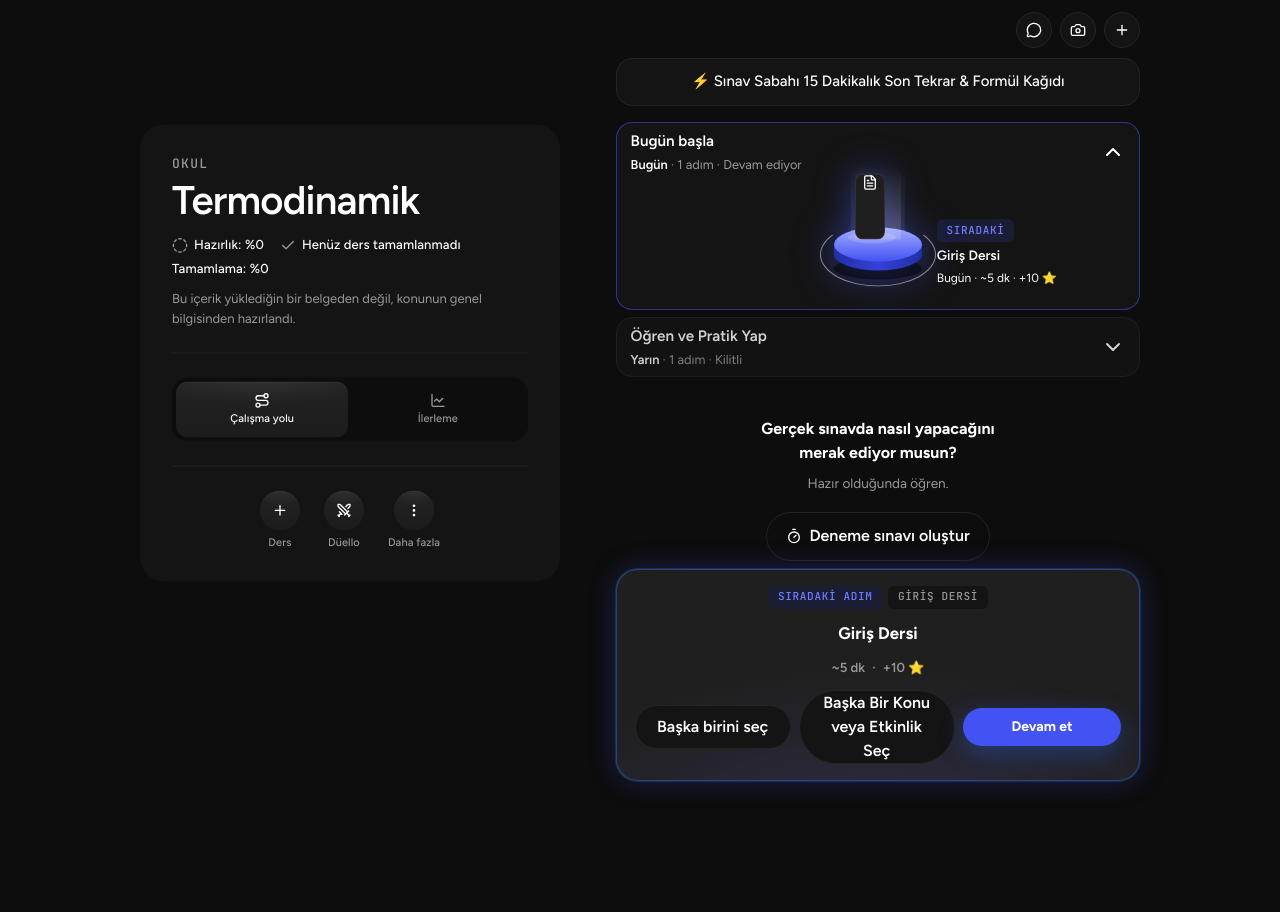
Test: exam prep home path (Astra düzeni, 29 Eylül 2026) › shows a lock icon (not a step number) on a locked trail node
Click the button "Öğren ve Pratik Yap Yarın · 1 adım · Kilitli".
click(699, 336)  # box [617, 318, 1139, 376]
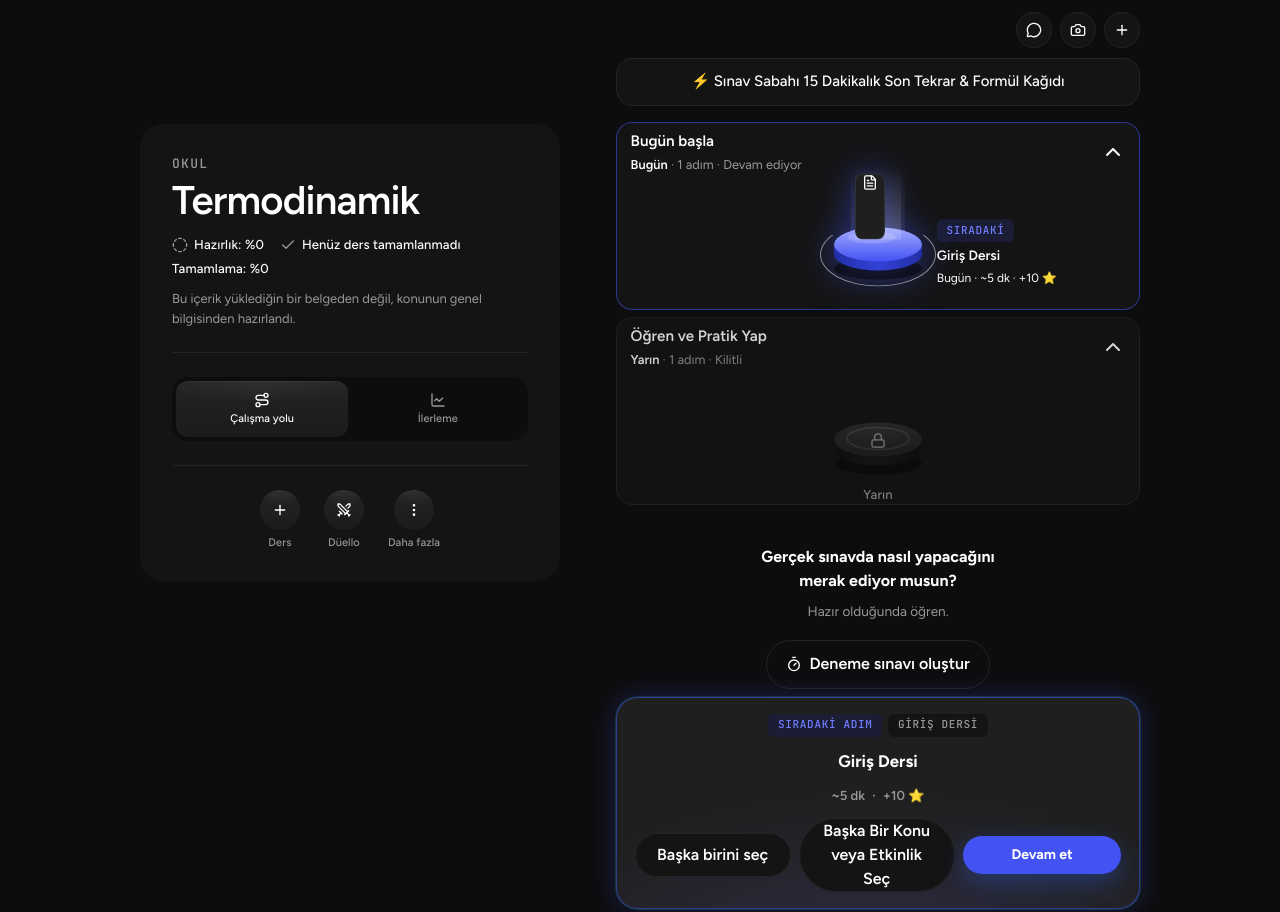
Check: the icon with class "lucide-lock" is shown, box [870, 432, 886, 448]
